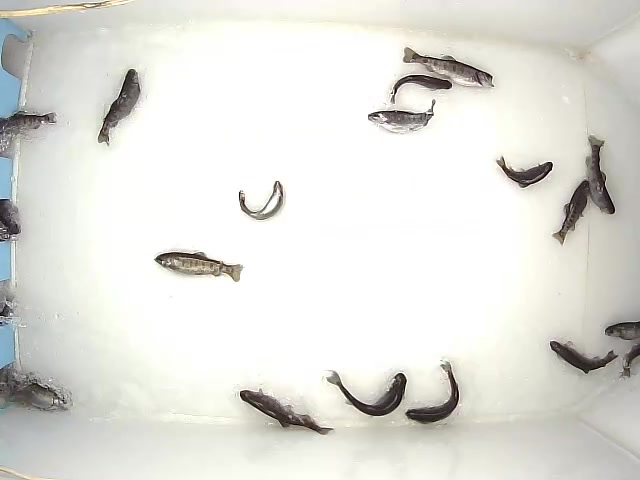fish: (239, 388, 335, 436), (321, 369, 408, 417), (402, 45, 496, 89), (405, 356, 460, 426), (97, 68, 141, 148), (154, 249, 245, 283), (551, 179, 591, 247), (584, 134, 616, 216), (368, 98, 437, 135), (549, 340, 620, 375), (383, 71, 453, 104), (495, 155, 554, 189), (238, 180, 285, 222)
